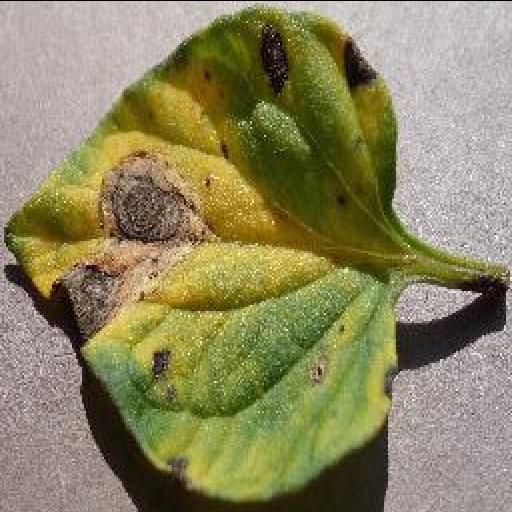disease_tomato: (2, 8, 402, 504)
